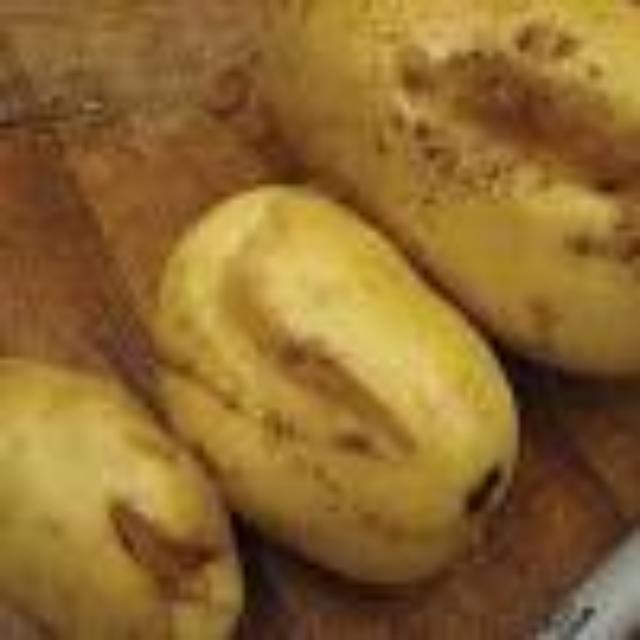Damaged potato: (132, 182, 538, 590), (256, 4, 640, 362), (0, 352, 240, 640)
